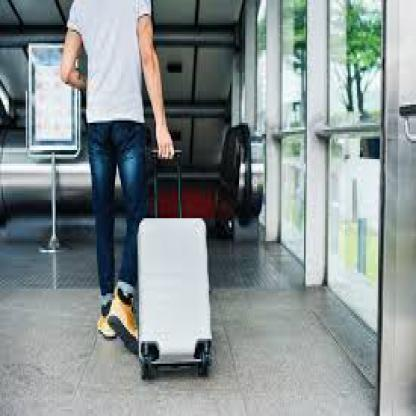maleta: (132, 209, 218, 384)
